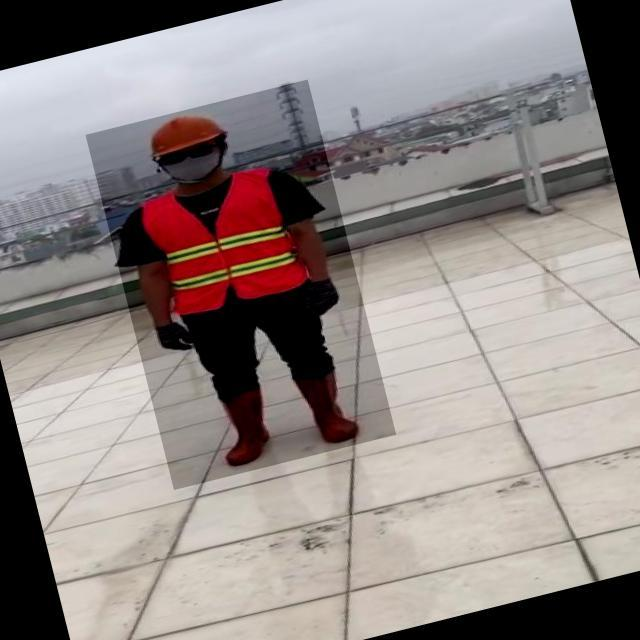Helmet: (139, 105, 229, 162)
Human: (85, 79, 396, 490)
Safety Boot: (297, 367, 370, 451), (210, 388, 276, 465)
Safety Vest: (136, 163, 310, 321)
